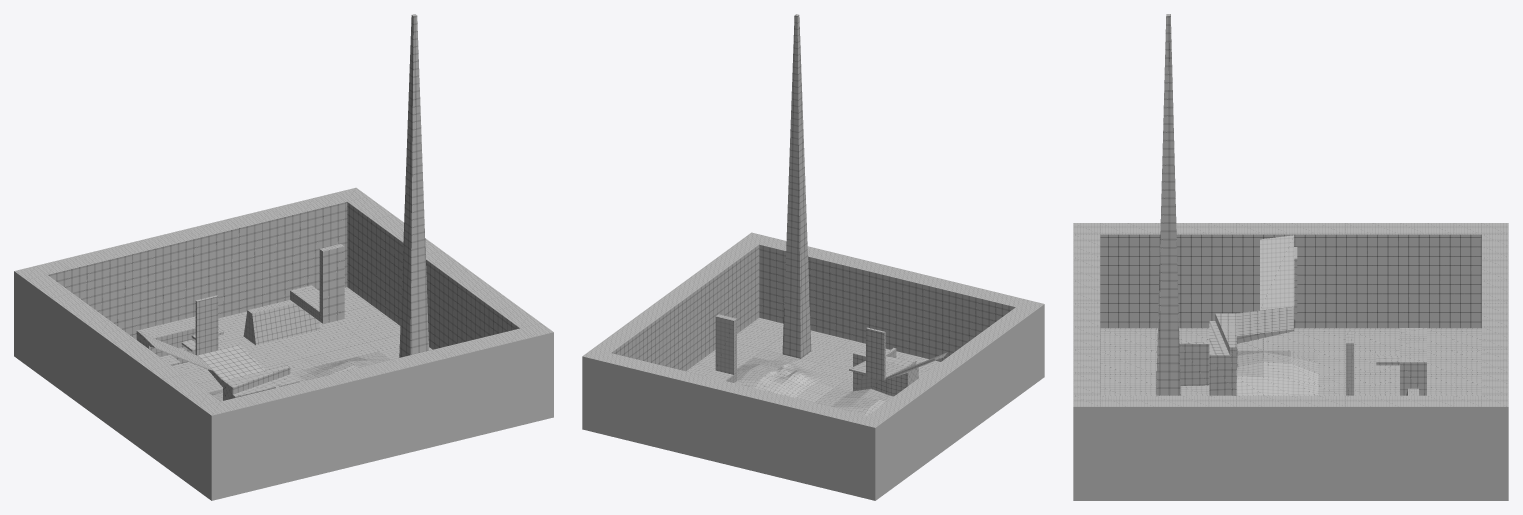
File: demo-scene.glb
3 views of the same model, side by side, from view 1: azimuth 30°, elevation 25°; view 2: azimuth 150°, elevation 25°; view 3: azimuth 270°, elevation 25° (orthographic). The views are drawn at different scales.
Parts seen in each view (by area): view 1: Plane; view 2: Plane; view 3: Plane.
Boxes of the visible parts, x1,y1,x2,y2 form: Plane: (14, 14, 553, 500); Plane: (582, 14, 1044, 500); Plane: (1073, 14, 1508, 500).
Size of the model in its own units: 78.46 by 86.34 by 78.46.
Materials: 1 (1 with a texture image).
